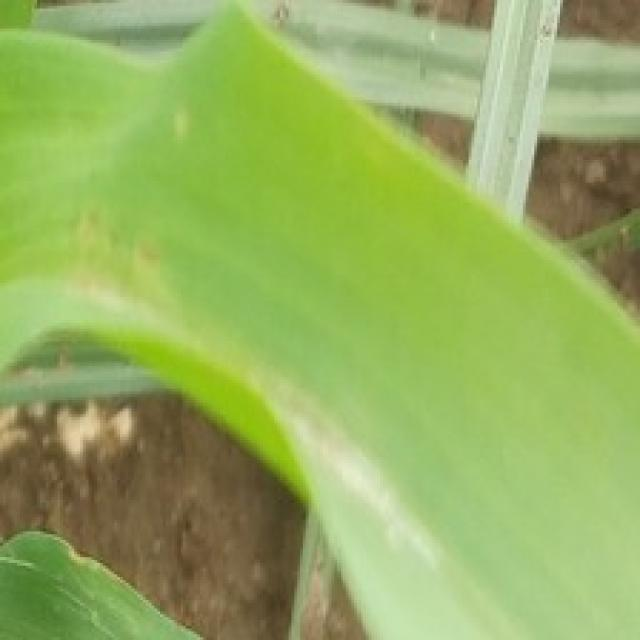Corn: (0, 0, 637, 637), (0, 535, 203, 639)
